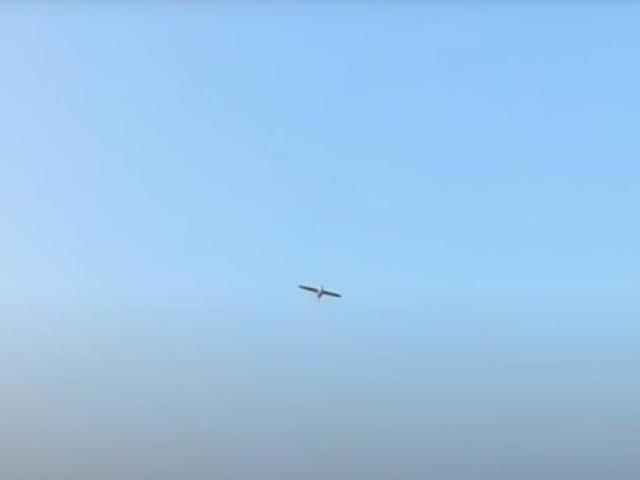iha: (299, 285, 341, 299)
